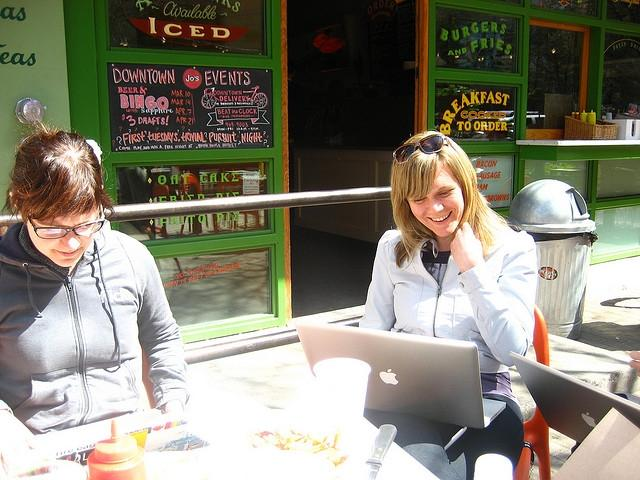apple: (379, 368, 399, 385)
